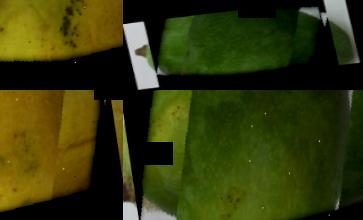Ripe: (0, 90, 121, 220), (0, 0, 123, 89)
Unripe: (123, 90, 363, 220), (144, 0, 335, 87)
